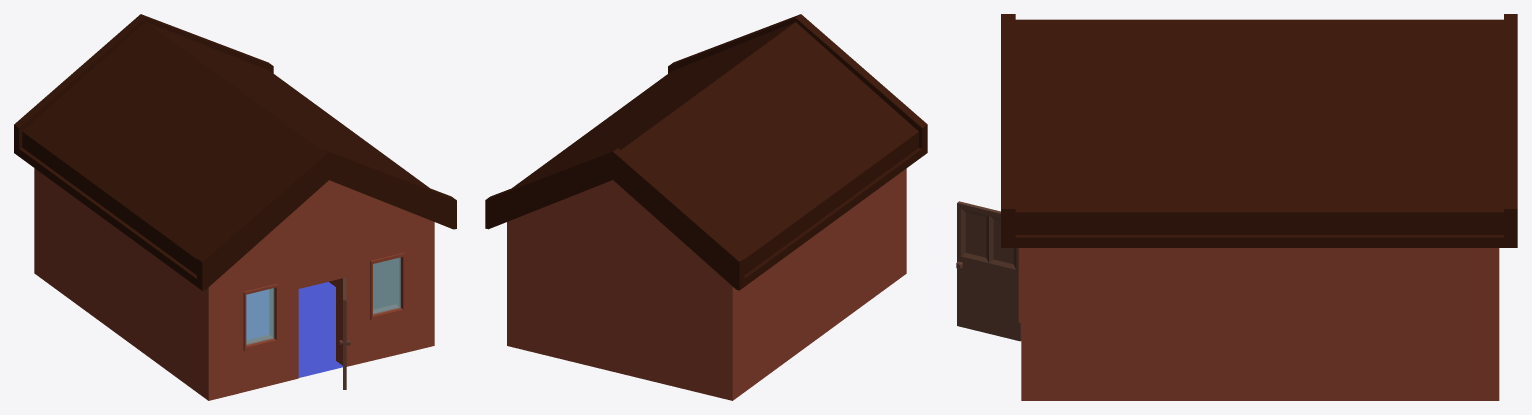
Rendered from HouseTemp.fbx.
3 views of the same model, side by side, from view 1: azimuth 30°, elevation 25°; view 2: azimuth 150°, elevation 25°; view 3: azimuth 270°, elevation 25° (orthographic). The views are drawn at different scales.
Parts seen in each view (by area): view 1: Plane; view 2: Plane; view 3: Plane.
Part boxes in pixels (left/top/right/bottom): Plane: left=14, top=14, right=456, bottom=400; Plane: left=485, top=14, right=927, bottom=400; Plane: left=956, top=14, right=1517, bottom=400.
Bounding box in the file's own units: 2208 × 1881 × 3074.
